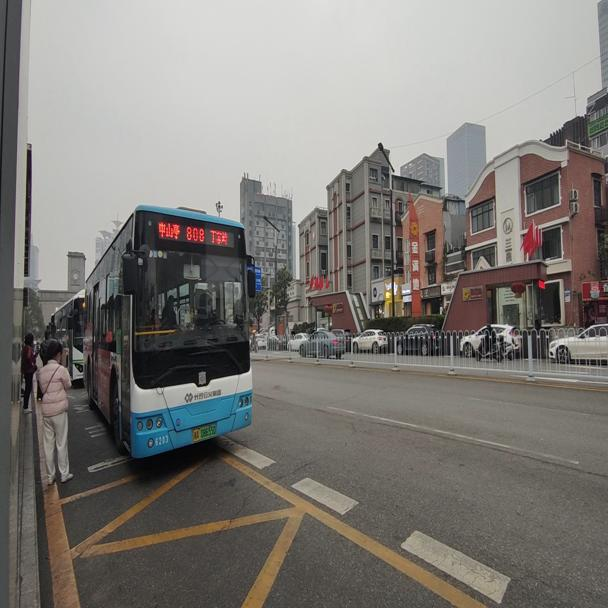bus: (86, 206, 253, 459), (49, 293, 86, 385)
screen: (182, 221, 208, 243)
